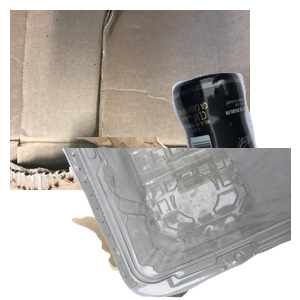cardboard: (10, 10, 250, 190)
glass: (106, 70, 300, 250)
plastic: (60, 148, 300, 300)
trash: (66, 137, 263, 300)
